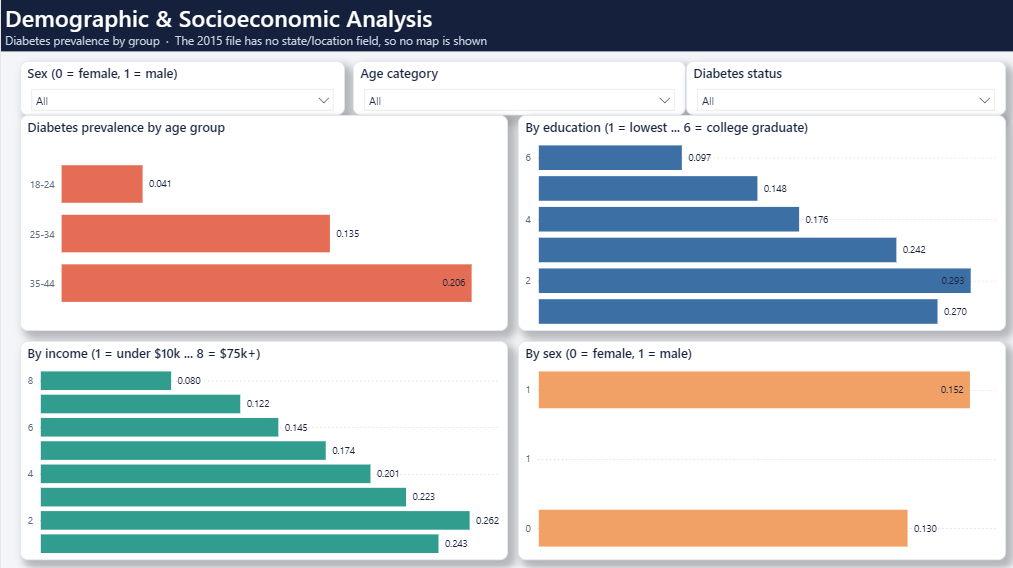

Layout of this report page (visuals, bound fields, positions):
{"tool":"powerbi","page":{"name":"04 - Demographic & Socioeconomic","canvas":[1280,720],"ordinal":3},"visuals":[{"type":"textbox","box":[0,0,1280,68],"z":1000},{"type":"slicer","title":"Sex (0 = female, 1 = male)","fields":{"Values":["BRFSS2015.Sex"]},"box":[24,80,400,56],"z":2000},{"type":"slicer","title":"Age category","fields":{"Values":["BRFSS2015.Age categories"]},"box":[440,80,400,56],"z":3000},{"type":"slicer","title":"Diabetes status","fields":{"Values":["BRFSS2015.Diabetes Status"]},"box":[856,80,400,56],"z":4000},{"type":"clusteredBarChart","title":"Diabetes prevalence by age group","fields":{"Category":["BRFSS2015.Age categories"],"Y":["BRFSS2015.Diabetes Prevalence"]},"box":[24,148,610,270],"z":5000},{"type":"clusteredBarChart","title":"By education (1 = lowest ... 6 = college graduate)","fields":{"Category":["BRFSS2015.Education"],"Y":["BRFSS2015.Diabetes Prevalence"]},"box":[646,148,610,270],"z":6000},{"type":"clusteredBarChart","title":"By income (1 = under $10k ... 8 = $75k+)","fields":{"Category":["BRFSS2015.Income"],"Y":["BRFSS2015.Diabetes Prevalence"]},"box":[24,430,610,274],"z":7000},{"type":"clusteredBarChart","title":"By sex (0 = female, 1 = male)","fields":{"Category":["BRFSS2015.Sex"],"Y":["BRFSS2015.Diabetes Prevalence"]},"box":[646,430,610,274],"z":8000}]}

Visuals, with their boxes in screenshot pixels (x1, y1, x2, y2), scaled from the page's 1280x720 canvas onto the 1013x568 screenshot:
textbox: bbox(0, 0, 1012, 54)
"Sex (0 = female, 1 = male)" slicer: bbox(19, 63, 336, 107)
"Age category" slicer: bbox(348, 63, 665, 107)
"Diabetes status" slicer: bbox(677, 63, 994, 107)
"Diabetes prevalence by age group" clusteredBarChart: bbox(19, 117, 502, 330)
"By education (1 = lowest ... 6 = college graduate)" clusteredBarChart: bbox(511, 117, 994, 330)
"By income (1 = under $10k ... 8 = $75k+)" clusteredBarChart: bbox(19, 339, 502, 555)
"By sex (0 = female, 1 = male)" clusteredBarChart: bbox(511, 339, 994, 555)
